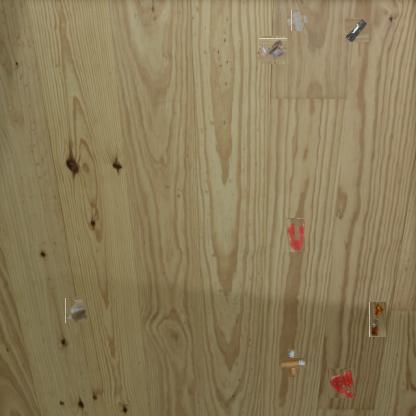dirty: (261, 37, 286, 63), (369, 301, 386, 337), (345, 18, 369, 42), (65, 297, 86, 323), (282, 354, 302, 372), (289, 12, 307, 29)
liquid: (328, 368, 354, 398), (286, 218, 306, 252)
